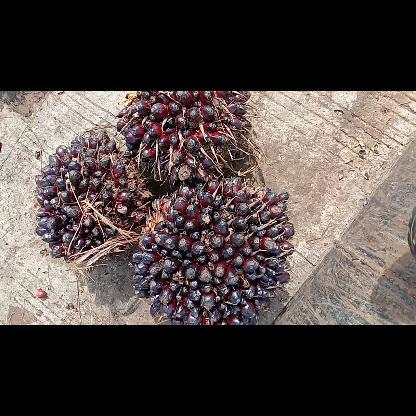TBS mentah: (129, 174, 298, 324), (30, 126, 156, 264), (112, 90, 254, 186)
